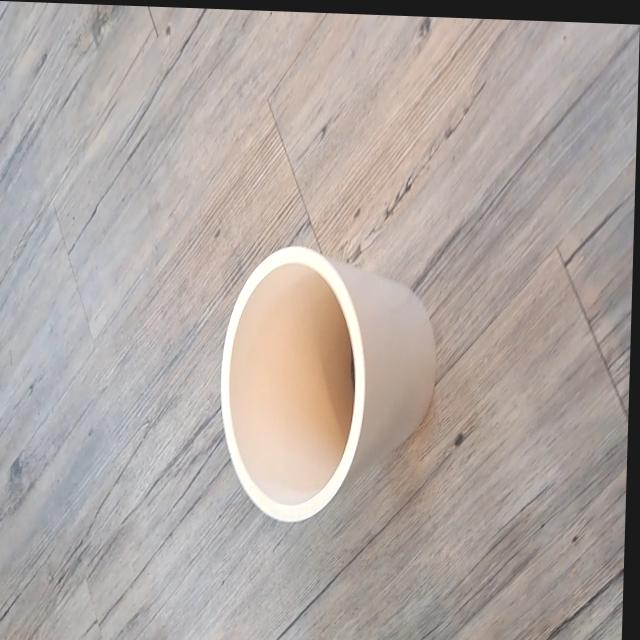CORAL: (196, 198, 456, 571)
